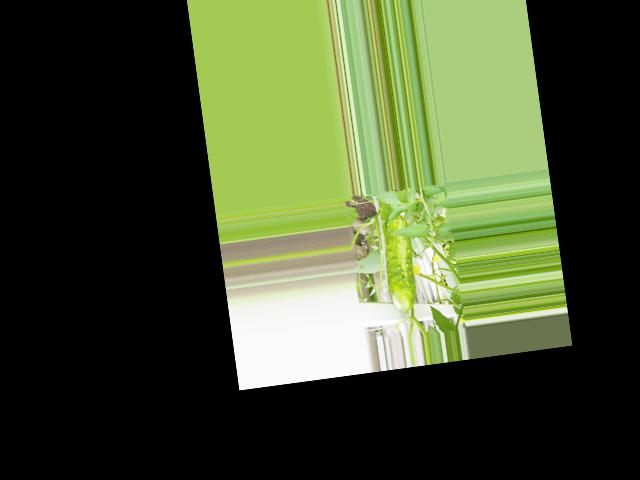cucumber: (379, 215, 418, 313)
